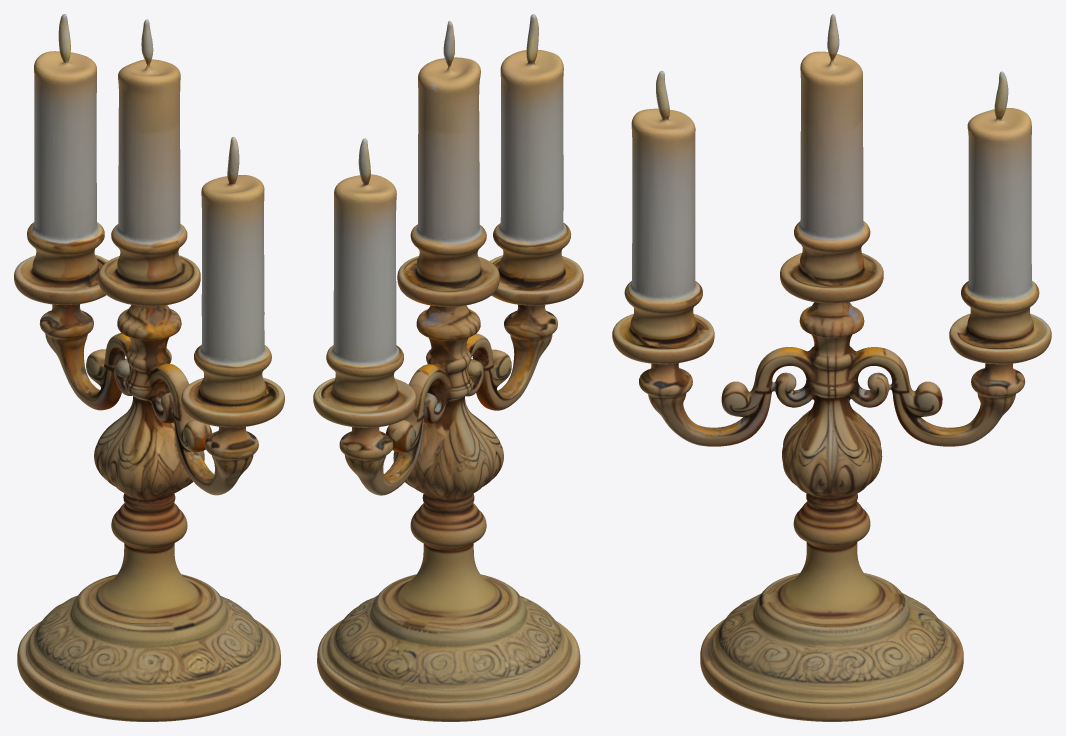
Rendered from candle-11.glb.
3 renders of one model, left to right at view 1: azimuth 30°, elevation 25°; view 2: azimuth 150°, elevation 25°; view 3: azimuth 270°, elevation 25°, orthographic.
Parts seen in each view (by area): view 1: tripo_node_ebeca01c-ce79-4f18-8f96-c5d06efa1c3c; view 2: tripo_node_ebeca01c-ce79-4f18-8f96-c5d06efa1c3c; view 3: tripo_node_ebeca01c-ce79-4f18-8f96-c5d06efa1c3c.
Boxes of the visible parts, x1,y1,x2,y2 form: tripo_node_ebeca01c-ce79-4f18-8f96-c5d06efa1c3c: (14,14,284,721); tripo_node_ebeca01c-ce79-4f18-8f96-c5d06efa1c3c: (313,14,583,721); tripo_node_ebeca01c-ce79-4f18-8f96-c5d06efa1c3c: (612,14,1051,721).
Bounding box in the file's own units: 0.3484 × 0.9491 × 0.5777.
Materials: 1 (1 with a texture image).
